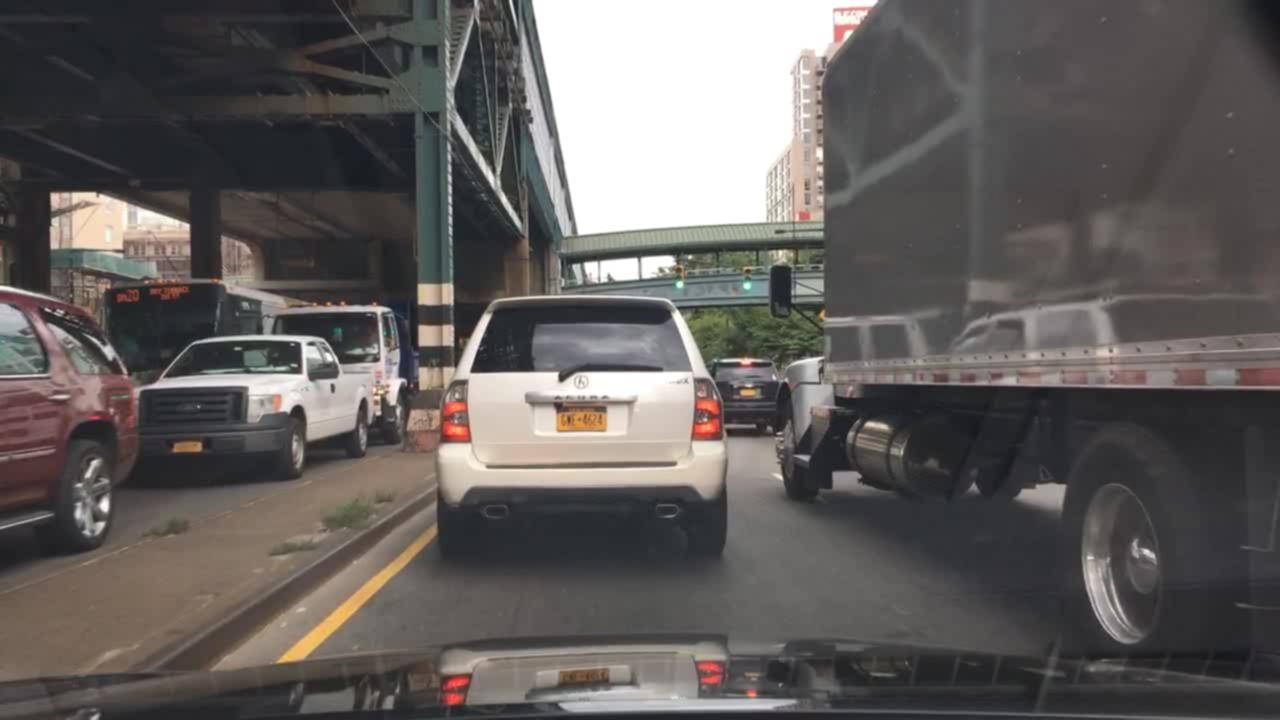acura: (569, 371, 597, 396)
